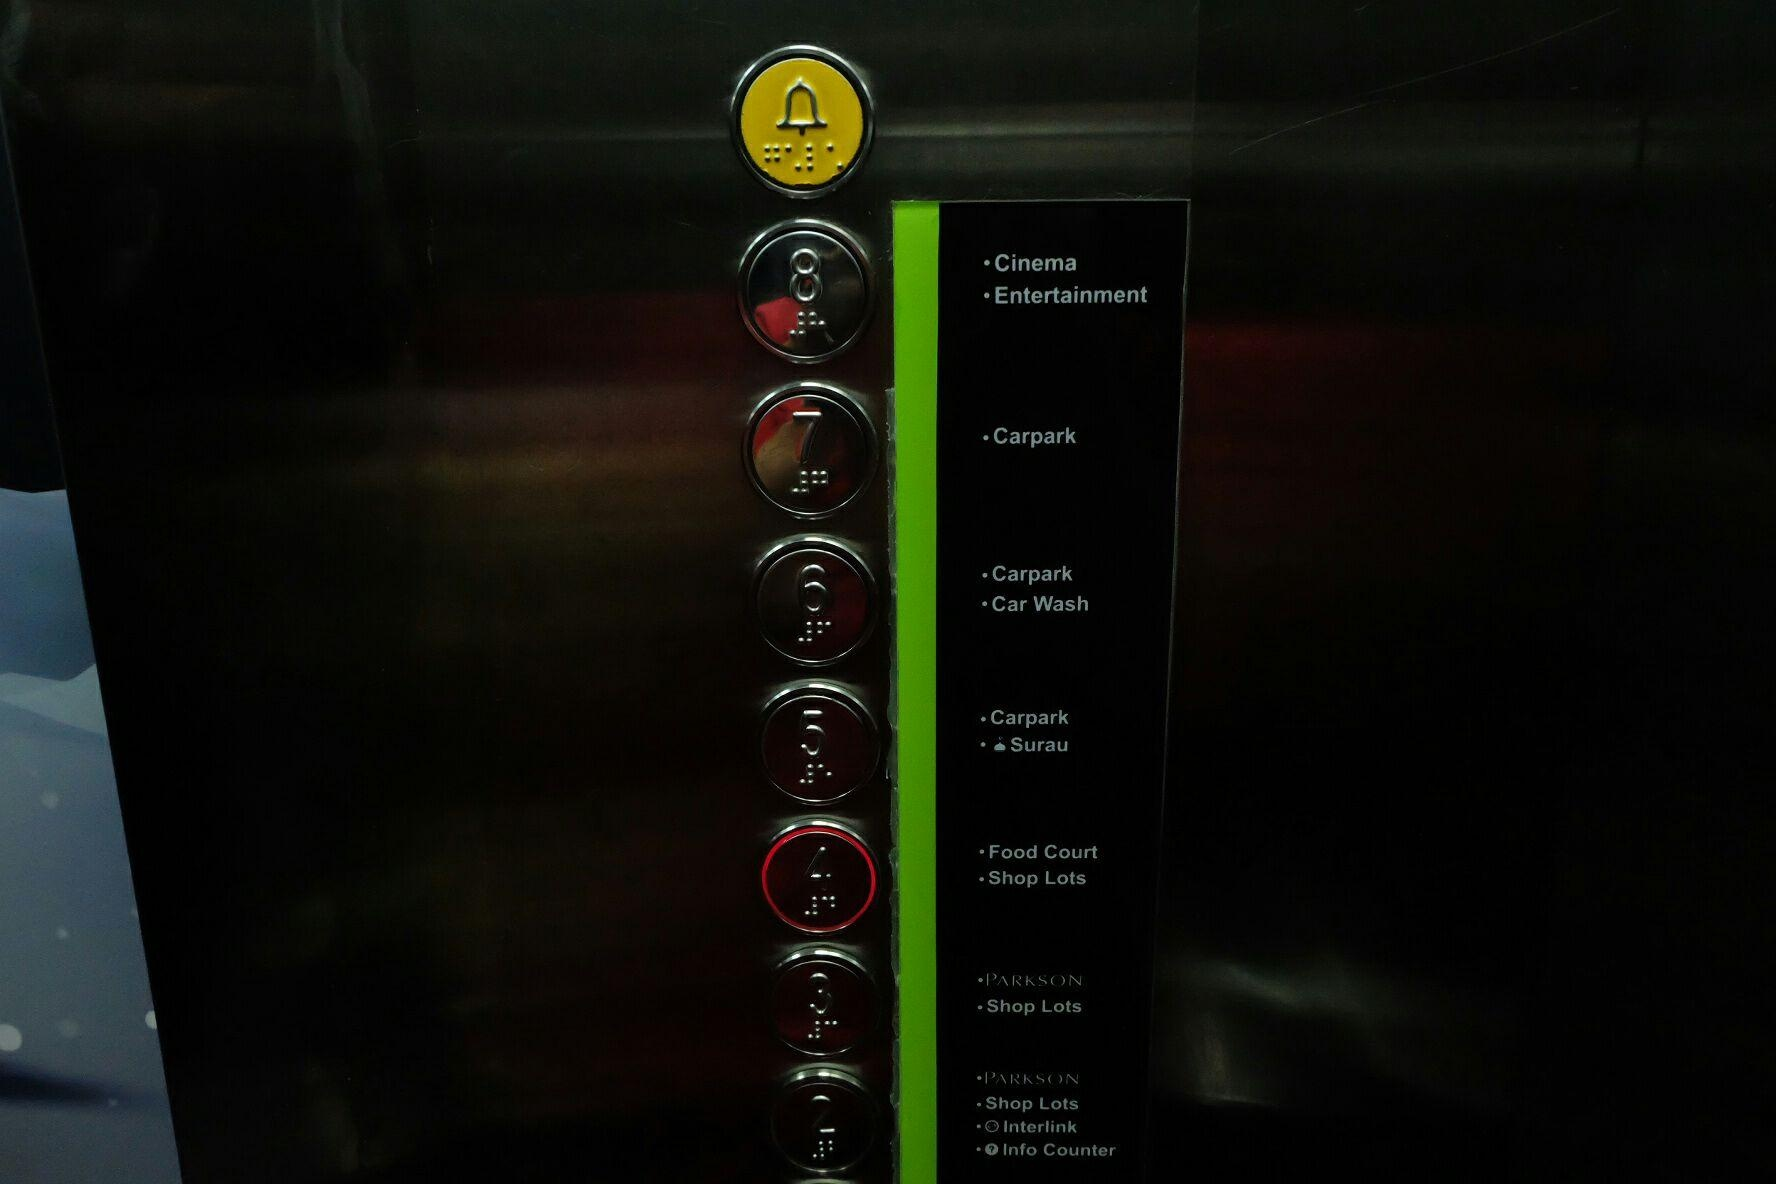2: (765, 1066, 881, 1175)
3: (762, 941, 881, 1058)
4: (758, 817, 880, 936)
5: (751, 678, 884, 805)
6: (747, 533, 885, 665)
7: (743, 381, 884, 519)
8: (731, 217, 880, 366)
alarm: (725, 44, 879, 196)
